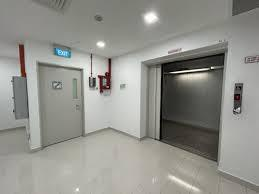exit: (36, 64, 83, 146)
lit_exit_sign: (55, 46, 71, 58)
